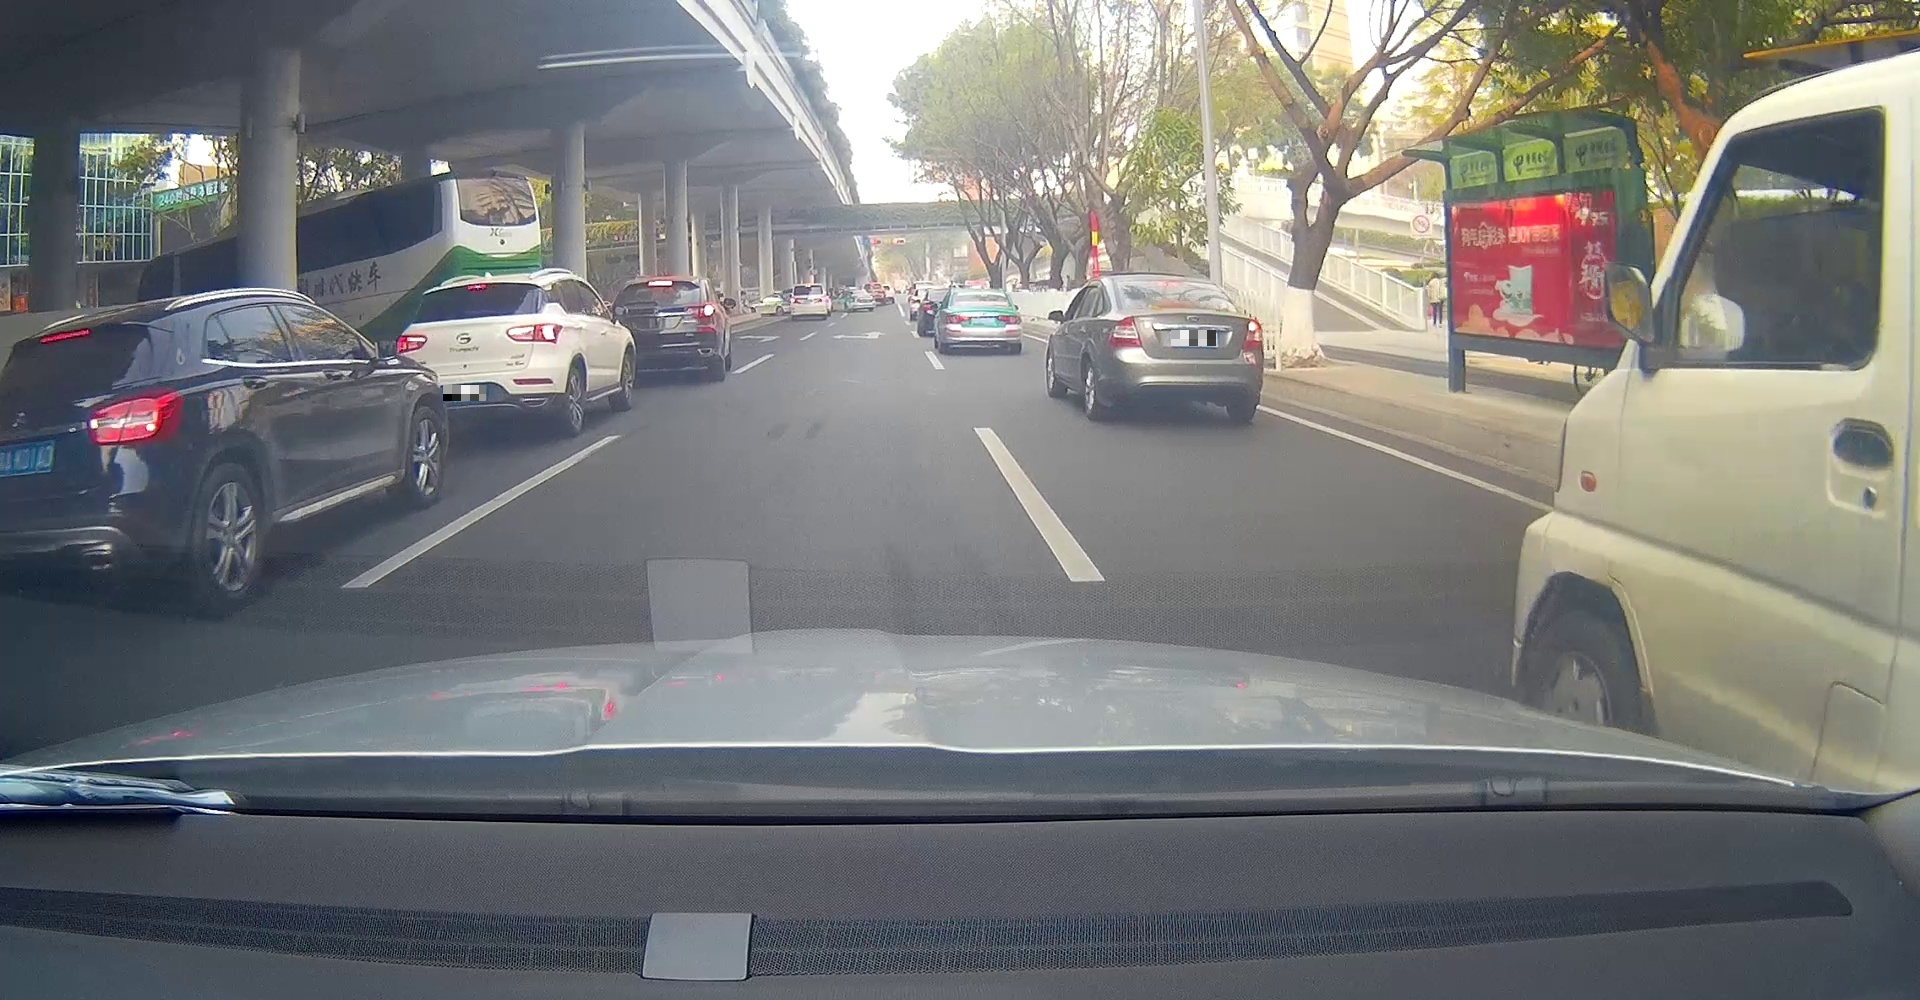L_light: (1109, 316, 1140, 348), (396, 336, 427, 354), (945, 315, 969, 324)
R_light: (505, 324, 563, 345), (1241, 319, 1262, 349), (998, 316, 1020, 324)
T_light: (1156, 280, 1186, 287), (467, 283, 486, 291), (971, 292, 985, 297)
day-brake: (395, 273, 564, 437), (1106, 274, 1263, 420)
day-no: (943, 288, 1021, 353)
plate_1: (443, 385, 486, 401)
plate_2: (1171, 330, 1217, 346)
